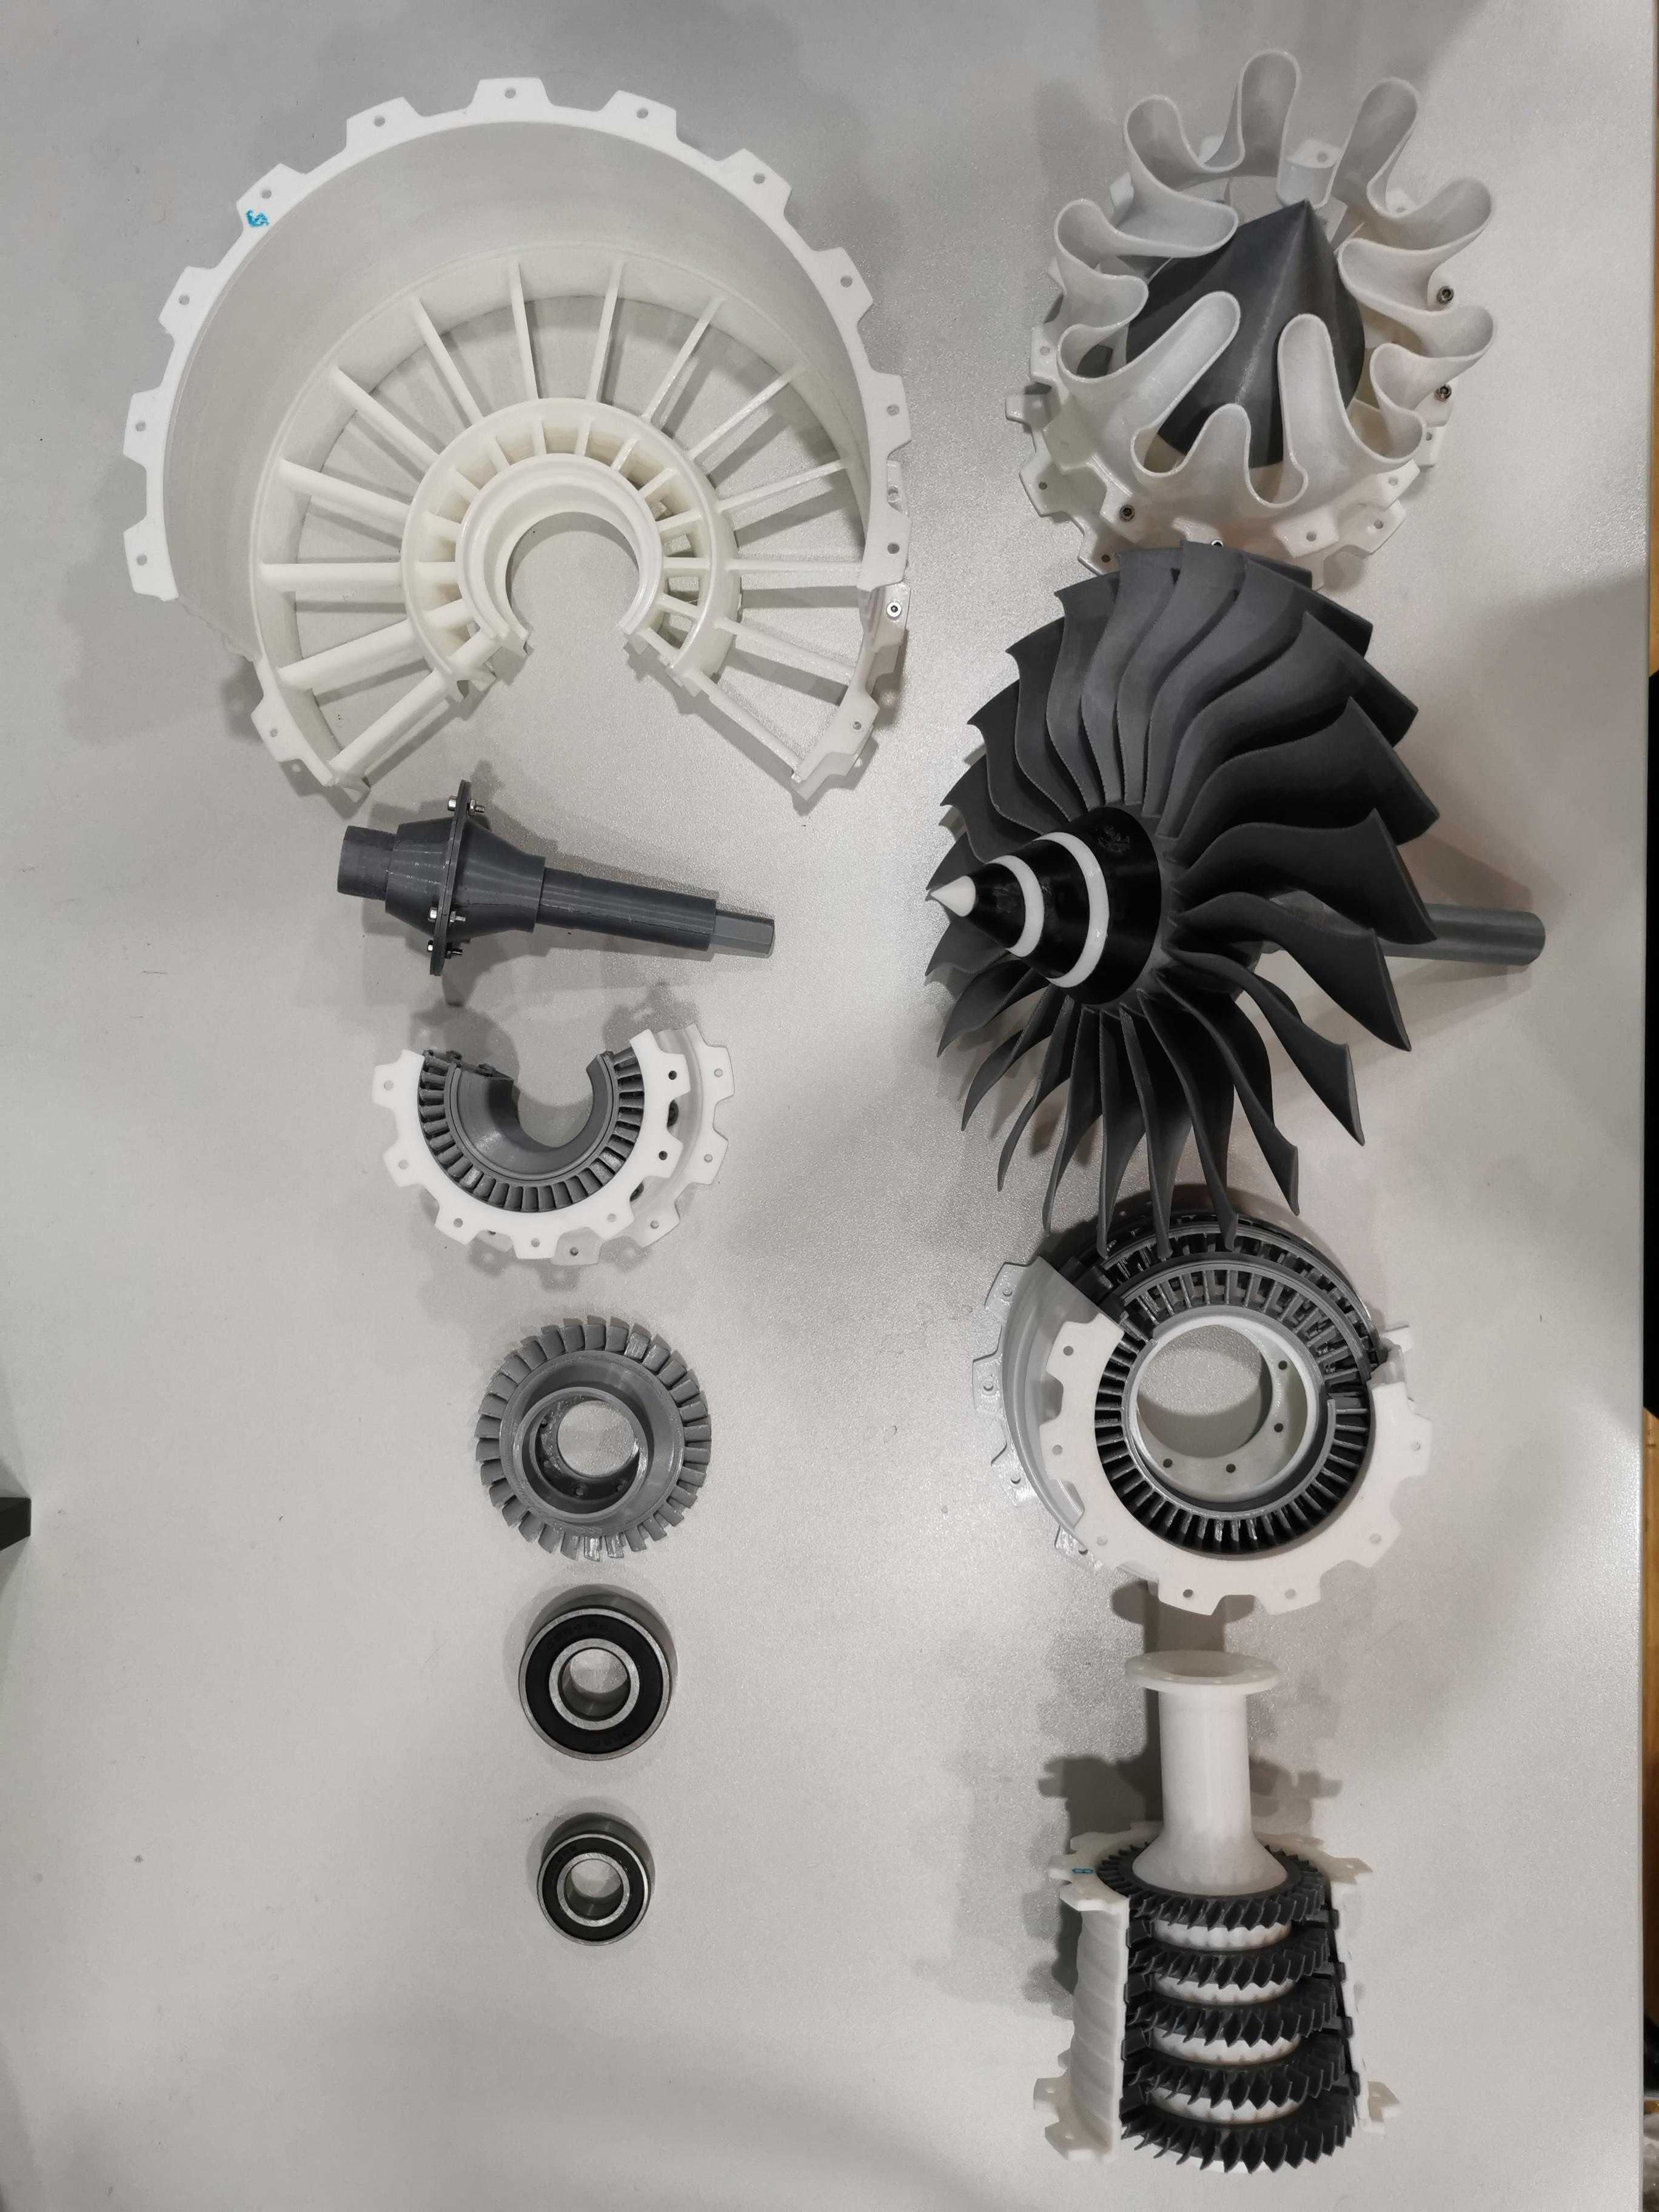Bearing-6003: (505, 1792, 673, 1975)
Bearing-6204: (498, 1580, 692, 1787)
Combustion Section: (364, 996, 751, 1275)
Fan Casing and Support: (96, 68, 939, 822)
Fan and Low Pressure Shaft: (913, 538, 1558, 1264)
HPT Section: (457, 1299, 728, 1575)
High Pressure Spool: (1018, 1632, 1420, 2189)
LPT Section: (964, 1174, 1441, 1618)
Low Pressure Spool: (319, 777, 800, 984)
Nozzle Section: (993, 37, 1518, 601)
